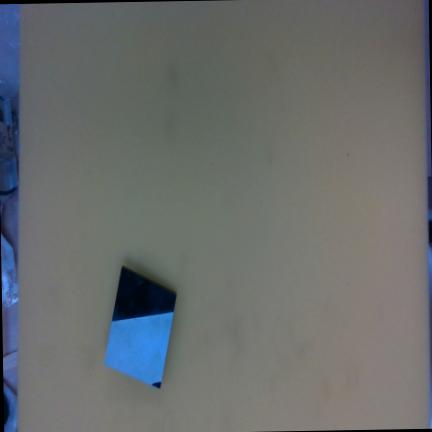tile: (101, 267, 179, 389)
